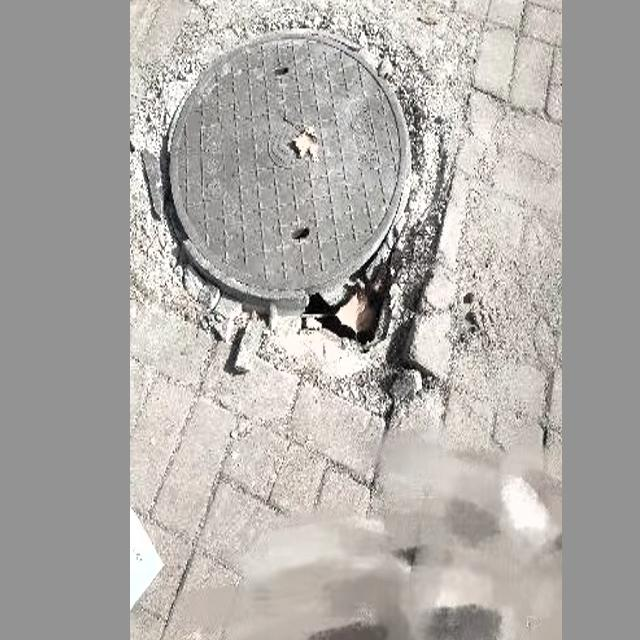circle: (130, 10, 455, 339)
